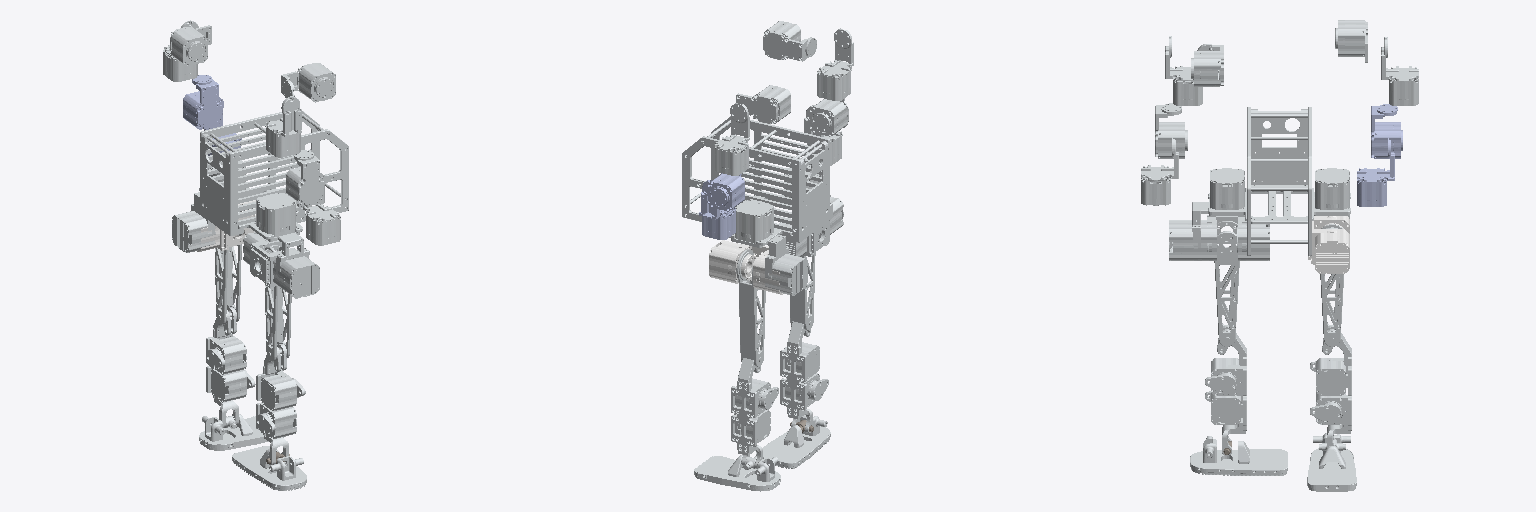
URDF robot description (hi_1_21_240815):
<?xml version="1.0" encoding="utf-8"?>
<!--
This URDF was automatically created by SolidWorks to URDF Exporter! Originally created by [author] ([email redacted])
Commit Version: 1.6.0-4-g7f85cfe  Build Version: 1.6.7995.38578
For more information, please see http://wiki.ros.org/sw_urdf_exporter
-->
<robot name="hi_1_21_240815">
	<link name="base_link">
		<inertial>
			<origin xyz="-9.6590197018076E-05 2.66945392179974E-09 0.017511404414247" rpy="0 0 0" />
			<mass value="0.67789918" />
			<inertia ixx="0.00370034" ixy="-0.00000112" ixz="-2.33467801644995E-08" 
									  iyy="0.00024244" iyz="-0.00001886" 
									  					izz="0.00274356" />
		</inertial>
		<visual>
			<origin xyz="0 0 0" rpy="0 0 0" />
			<geometry>
				<mesh filename="../meshes/base_link.STL" />
			</geometry>
			<material name="">
				<color rgba="0.898039215686275 0.917647058823529 0.929411764705882 1" />
			</material>
		</visual>
		<collision>
			<origin xyz="0 0 0" rpy="0 0 0" />
			<geometry>
				<mesh filename="../meshes/base_link.STL" />
			</geometry>
		</collision>
	</link>
  <!-- right leg -->
	<link name="r_hip_yaw_link">
		<inertial>
			<origin xyz="-0.05213112 0.00012202 -0.05273544" rpy="0 0 0" />
			<mass value="0.34953789" />
			<inertia ixx="0.00022813" ixy="4.5E-07" ixz="-5.884E-05" iyy="0.00025249" iyz="-5.3E-07" izz="0.00016829" />
		</inertial>
		<visual>
			<origin xyz="0 0 0" rpy="0 0 0" />
			<geometry>
				<mesh filename="../meshes/r_hip_yaw_link.STL" />
			</geometry>
			<material name="">
				<color rgba="0.898039215686275 0.917647058823529 0.929411764705882 1" />
			</material>
		</visual>
		<collision>
			<origin xyz="0 0 -0.01" rpy="0 0 0" />
			<geometry>
				<box size="0.01 0.01 0.01" />
			</geometry>
		</collision>
	</link>
	<joint name="r_hip_yaw_joint" type="revolute">
		<origin xyz="0 -0.0750000000000002 0" rpy="0 0 0" />
		<parent link="base_link" />
		<child link="r_hip_yaw_link" />
		<axis xyz="0 0 1" />
		<limit lower="-0.6" upper="0.6" effort="21" velocity="15" />
	</joint>
	<link name="r_hip_roll_link">
		<inertial>
			<origin xyz="-0.00214086 0.00022682 -0.00016674" rpy="0 0 0" />
			<mass value="0.67430799" />
			<inertia ixx="0.00098969" ixy="-4.2E-07" ixz="4.2E-07" iyy="0.00031647" iyz="-3.61E-06" izz="0.00101632" />
		</inertial>
		<visual>
			<origin xyz="0 0 0" rpy="0 0 0" />
			<geometry>
				<mesh filename="../meshes/r_hip_roll_link.STL" />
			</geometry>
			<material name="">
				<color rgba="0.898039215686275 0.917647058823529 0.929411764705882 1" />
			</material>
		</visual>
		<collision>
			<origin xyz="-0.03 0 0" rpy="0 0 0" />
			<geometry>
				<box size="0.01 0.01 0.01" />
			</geometry>
		</collision>
	</link>
	<joint name="r_hip_roll_joint" type="revolute">
		<origin xyz="0 0 -0.059" rpy="0 0 0" />
		<parent link="r_hip_yaw_link" />
		<child link="r_hip_roll_link" />
		<axis xyz="1 0 0" />
		<limit lower="-0.4" upper="0.22" effort="21" velocity="15" />
	</joint>
	<link name="r_thigh_link">
		<inertial>
			<origin xyz="0.00358069 -0.00097633 -0.07231086" rpy="0 0 0" />
			<mass value="0.10657336" />
			<inertia ixx="0.00026261" ixy="-3.7E-07" ixz="1.47E-06" iyy="0.00026313" iyz="6.94E-06" izz="2.409E-05" />
		</inertial>
		<visual>
			<origin xyz="0 0 0" rpy="0 0 0" />
			<geometry>
				<mesh filename="../meshes/r_thigh_link.STL" />
			</geometry>
			<material name="">
				<color rgba="0.898039215686275 0.917647058823529 0.929411764705882 1" />
			</material>
		</visual>
		<collision>
			<origin xyz="0 0 -0.075" rpy="0 -0.05009 0" />
			<geometry>
				<box size="0.02 0.02 0.12" />
			</geometry>
		</collision>
	</link>
	<joint name="r_thigh_joint" type="revolute">
		<origin xyz="0 0 0" rpy="0 0 0" />
		<parent link="r_hip_roll_link" />
		<child link="r_thigh_link" />
		<axis xyz="0 1 0" />
		<limit lower="-2.25" upper="0.4" effort="21" velocity="15" />
	</joint>
	<link name="r_calf_link">
		<inertial>
			<origin xyz="0.00199394 0 -0.08688477" rpy="0 0 0" />
			<mass value="0.53090962" />
			<inertia ixx="0.00070182" ixy="1E-08" ixz="-8.98E-06" iyy="0.00072293" iyz="4.927E-05" izz="0.00018922" />
		</inertial>
		<visual>
			<origin xyz="0 0 0" rpy="0 0 0" />
			<geometry>
				<mesh filename="../meshes/r_calf_link.STL" />
			</geometry>
			<material name="">
				<color rgba="0.898039215686275 0.917647058823529 0.929411764705882 1" />
			</material>
		</visual>
		<collision>
			<origin xyz="0 0 -0.075" rpy="0 0 0" />
			<geometry>
				<box size="0.03 0.035 0.12" />
			</geometry>
		</collision>
	</link>
	<joint name="r_calf_joint" type="revolute">
		<origin xyz="0 0 -0.15" rpy="0 0 0" />
		<parent link="r_thigh_link" />
		<child link="r_calf_link" />
		<axis xyz="0 1 0" />
		<limit lower="0.0" upper="2.37" effort="21" velocity="15" />
	</joint>
	<link name="r_ankle_pitch_link">
		<inertial>
			<origin xyz="0 0 0" rpy="0 0 0" />
			<mass value="0.01158437" />
			<inertia ixx="4.5E-07" ixy="0" ixz="0" iyy="1.12E-06" iyz="0" izz="1.21E-06" />
		</inertial>
		<visual>
			<origin xyz="0 0 0" rpy="0 0 0" />
			<geometry>
				<mesh filename="../meshes/r_ankle_pitch_link.STL" />
			</geometry>
			<material name="">
				<color rgba="0.650980392156863 0.619607843137255 0.588235294117647 1" />
			</material>
		</visual>
		<collision>
			<origin xyz="0 0 0" rpy="0 0 0" />
			<geometry>
				<mesh filename="../meshes/r_ankle_pitch_link.STL" />
			</geometry>
		</collision>
	</link>
	<joint name="r_ankle_pitch_joint" type="revolute">
		<origin xyz="0 0 -0.175449999999999" rpy="0 0 0" />
		<parent link="r_calf_link" />
		<child link="r_ankle_pitch_link" />
		<axis xyz="0 1 0" />
		<limit lower="-0.83" upper="0.59" effort="21" velocity="15" />
	</joint>
	<link name="r_ankle_roll_link">
		<inertial>
			<origin xyz="0.01709698 0 -0.0216953" rpy="0 0 0" />
			<mass value="0.25881222" />
			<inertia ixx="9.927E-05" ixy="0" ixz="1.946E-05" iyy="0.00039001" iyz="0" izz="0.00045665" />
		</inertial>
		<visual>
			<origin xyz="0 0 0" rpy="0 0 0" />
			<geometry>
				<mesh filename="../meshes/r_ankle_roll_link.STL" />
			</geometry>
			<material name="">
				<color rgba="0.898039215686275 0.917647058823529 0.929411764705882 1" />
			</material>
		</visual>
		<collision>
			<origin xyz="0 0 0" rpy="0 0 0" />
			<geometry>
				<mesh filename="../meshes/r_ankle_roll_link.STL" />
			</geometry>
		</collision>
	</link>
	<joint name="r_ankle_roll_joint" type="revolute">
		<origin xyz="0 0 0" rpy="0 0 0" />
		<parent link="r_ankle_pitch_link" />
		<child link="r_ankle_roll_link" />
		<axis xyz="1 0 0" />
		<limit lower="-0.83" upper="0.59" effort="21" velocity="15" />
	</joint>
  <!-- left leg -->
	<link name="l_hip_yaw_link">
		<inertial>
			<origin xyz="-0.05287777 -6.958E-05 -0.05288161" rpy="0 0 0" />
			<mass value="0.34953789" />
			<inertia ixx="0.00023311" ixy="-2.6E-07" ixz="-5.987E-05" iyy="0.00025057" iyz="3.9E-07" izz="0.00016652" />
		</inertial>
		<visual>
			<origin xyz="0 0 0" rpy="0 0 0" />
			<geometry>
				<mesh filename="../meshes/l_hip_yaw_link.STL" />
			</geometry>
			<material name="">
				<color rgba="0.898039215686275 0.917647058823529 0.929411764705882 1" />
			</material>
		</visual>
		<collision>
			<origin xyz="0 0 -0.01" rpy="0 0 0" />
			<geometry>
				<box size="0.01 0.01 0.01" />
			</geometry>
		</collision>
	</link>
	<joint name="l_hip_yaw_joint" type="revolute">
		<origin xyz="0 0.075 0" rpy="0 0 0" />
		<parent link="base_link" />
		<child link="l_hip_yaw_link" />
		<axis xyz="0 0 1" />
		<limit lower="-0.6" upper="0.6" effort="21" velocity="15" />
	</joint>
	<link name="l_hip_roll_link">
		<inertial>
			<origin xyz="-0.00198932 -0.00022682 -0.00016674" rpy="0 0 0" />
			<mass value="0.67430799" />
			<inertia ixx="0.00101903" ixy="3.9E-07" ixz="4E-07" iyy="0.00032559" iyz="2.13E-06" izz="0.00104452" />
		</inertial>
		<visual>
			<origin xyz="0 0 0" rpy="0 0 0" />
			<geometry>
				<mesh filename="../meshes/l_hip_roll_link.STL" />
			</geometry>
			<material name="">
				<color rgba="1 1 1 1" />
			</material>
		</visual>
		<collision>
			<origin xyz="-0.03 0 0" rpy="0 0 0" />
			<geometry>
				<box size="0.01 0.01 0.01" />
			</geometry>
		</collision>
	</link>
	<joint name="l_hip_roll_joint" type="revolute">
		<origin xyz="0 0 -0.0590000000000001" rpy="0 0 0" />
		<parent link="l_hip_yaw_link" />
		<child link="l_hip_roll_link" />
		<axis xyz="1 0 0" />
		<limit lower="-0.22" upper="0.4" effort="21" velocity="15" />
	</joint>
	<link name="l_thigh_link">
		<inertial>
			<origin xyz="0.00358069 -0.00097633 -0.07231086" rpy="0 0 0" />
			<mass value="0.10930341" />
			<inertia ixx="0.00027748" ixy="2.5E-07" ixz="2.16E-06" iyy="0.00027816" iyz="-4.53E-06" izz="2.508E-05" />
		</inertial>
		<visual>
			<origin xyz="0 0 0" rpy="0 0 0" />
			<geometry>
				<mesh filename="../meshes/l_thigh_link.STL" />
			</geometry>
			<material name="">
				<color rgba="0.898039215686275 0.917647058823529 0.929411764705882 1" />
			</material>
		</visual>
		<collision>
			<origin xyz="0 0 -0.075" rpy="0 -0.05009 0" />
			<geometry>
				<box size="0.02 0.02 0.12" />
			</geometry>
		</collision>
	</link>
	<joint name="l_thigh_joint" type="revolute">
		<origin xyz="0 0 0" rpy="0 0 0" />
		<parent link="l_hip_roll_link" />
		<child link="l_thigh_link" />
		<axis xyz="0 1 0" />
		<limit lower="-2.25" upper="0.4" effort="21" velocity="15" />
	</joint>
	<link name="l_calf_link">
		<inertial>
			<origin xyz="0.00176073 0 -0.08688482" rpy="0 0 0" />
			<mass value="0.5309096" />
			<inertia ixx="0.00066601" ixy="-1E-08" ixz="-9.12E-06" iyy="0.00068609" iyz="-4.268E-05" izz="0.00015353" />
		</inertial>
		<visual>
			<origin xyz="0 0 0" rpy="0 0 0" />
			<geometry>
				<mesh filename="../meshes/l_calf_link.STL" />
			</geometry>
			<material name="">
				<color rgba="0.898039215686275 0.917647058823529 0.929411764705882 1" />
			</material>
		</visual>
		<collision>
			<origin xyz="0 0 -0.075" rpy="0 0 0" />
			<geometry>
				<box size="0.03 0.035 0.12" />
			</geometry>
		</collision>
	</link>
	<joint name="l_calf_joint" type="revolute">
		<origin xyz="0 0 -0.15" rpy="0 0 0" />
		<parent link="l_thigh_link" />
		<child link="l_calf_link" />
		<axis xyz="0 1 0" />
		<limit lower="0.0" upper="2.37" effort="21" velocity="15" />
	</joint>
	<link name="l_ankle_pitch_link">
		<inertial>
			<origin xyz="0 0 0" rpy="0 0 0" />
			<mass value="0.01158437" />
			<inertia ixx="4.5E-07" ixy="0" ixz="0" iyy="1.12E-06" iyz="0" izz="1.21E-06" />
		</inertial>
		<visual>
			<origin xyz="0 0 0" rpy="0 0 0" />
			<geometry>
				<mesh filename="../meshes/l_ankle_pitch_link.STL" />
			</geometry>
			<material name="">
				<color rgba="0.898039215686275 0.917647058823529 0.929411764705882 1" />
			</material>
		</visual>
		<collision>
			<origin xyz="0 0 0" rpy="0 0 0" />
			<geometry>
				<mesh filename="../meshes/l_ankle_pitch_link.STL" />
			</geometry>
		</collision>
	</link>
	<joint name="l_ankle_pitch_joint" type="revolute">
		<origin xyz="0 0 -0.17545" rpy="0 0 0" />
		<parent link="l_calf_link" />
		<child link="l_ankle_pitch_link" />
		<axis xyz="0 1 0" />
		<limit lower="-0.83" upper="0.59" effort="21" velocity="15" />
	</joint>
	<link name="l_ankle_roll_link">
		<inertial>
			<origin xyz="0.01709698 0 -0.0216953" rpy="0 0 0" />
			<mass value="0.25881222" />
			<inertia ixx="9.927E-05" ixy="0" ixz="1.946E-05" iyy="0.00039001" iyz="0" izz="0.00045665" />
		</inertial>
		<visual>
			<origin xyz="0 0 0" rpy="0 0 0" />
			<geometry>
				<mesh filename="../meshes/l_ankle_roll_link.STL" />
			</geometry>
			<material name="">
				<color rgba="0.898039215686275 0.917647058823529 0.929411764705882 1" />
			</material>
		</visual>
		<collision>
			<origin xyz="0 0 0" rpy="0 0 0" />
			<geometry>
				<mesh filename="../meshes/l_ankle_roll_link.STL" />
			</geometry>
		</collision>
	</link>
	<joint name="l_ankle_roll_joint" type="revolute">
		<origin xyz="0 0 0" rpy="0 0 0" />
		<parent link="l_ankle_pitch_link" />
		<child link="l_ankle_roll_link" />
		<axis xyz="1 0 0" />
		<limit lower="-0.83" upper="0.59" effort="21" velocity="15" />
	</joint>
  <!-- waist -->
	<link name="waist_yaw_link">
		<inertial>
			<origin xyz="0 1.562E-05 0.12043115" rpy="0 0 0" />
			<mass value="2.442" />
			<inertia ixx="0.00450468" ixy="6E-08" ixz="-9.585E-05" iyy="0.0038077" iyz="1.15E-06" izz="0.00218872" />
		</inertial>
		<visual>
			<origin xyz="0 0 0" rpy="0 0 0" />
			<geometry>
				<mesh filename="../meshes/waist_yaw_link.STL" />
			</geometry>
			<material name="">
				<color rgba="1 1 1 1" />
			</material>
		</visual>
		<collision>
			<origin xyz="0 0 0" rpy="0 0 0" />
			<geometry>
				<mesh filename="../meshes/waist_yaw_link.STL" />
			</geometry>
		</collision>
	</link>
	<joint name="waist_yaw_joint" type="fixed">
		<origin xyz="0 0 0.0160999999999999" rpy="0 0 0" />
		<parent link="base_link" />
		<child link="waist_yaw_link" />
		<axis xyz="0 0 -1" />
		<limit lower="-3.14" upper="3.14" effort="21" velocity="21" />
	</joint>
  <!-- right arm -->
	<link name="r_shoulder_pitch_link">
		<inertial>
			<origin xyz="-0.00143519 -0.04726596 -0.00014687" rpy="0 0 0" />
			<mass value="0.24141449" />
			<inertia ixx="0.00011586" ixy="-9.63E-06" ixz="1.1E-07" iyy="9.039E-05" iyz="4.3E-07" izz="0.00012631" />
		</inertial>
		<visual>
			<origin xyz="0 0 0" rpy="0 0 0" />
			<geometry>
				<mesh filename="../meshes/r_shoulder_pitch_link.STL" />
			</geometry>
			<material name="">
				<color rgba="0.898039215686275 0.917647058823529 0.929411764705882 1" />
			</material>
		</visual>
		<collision>
			<origin xyz="0 0 0" rpy="0 0 0" />
			<geometry>
				<mesh filename="../meshes/r_shoulder_pitch_link.STL" />
			</geometry>
		</collision>
	</link>
	<joint name="r_shoulder_pitch_joint" type="fixed">
		<origin xyz="0 -0.103 0.219" rpy="0 0 0" />
		<parent link="waist_yaw_link" />
		<child link="r_shoulder_pitch_link" />
		<axis xyz="0 -1 0" />
		<limit lower="-3.14" upper="3.14" effort="21" velocity="21" />
	</joint>
	<link name="r_shoulder_roll_link">
		<inertial>
			<origin xyz="0.02053236 0.00011391 -0.06124017" rpy="0 0 0" />
			<mass value="0.239293" />
			<inertia ixx="0.00014377" ixy="3.1E-07" ixz="3.136E-05" iyy="0.00015993" iyz="-2E-06" izz="9.482E-05" />
		</inertial>
		<visual>
			<origin xyz="0 0 0" rpy="0 0 0" />
			<geometry>
				<mesh filename="../meshes/r_shoulder_roll_link.STL" />
			</geometry>
			<material name="">
				<color rgba="0.898039215686275 0.917647058823529 0.929411764705882 1" />
			</material>
		</visual>
		<collision>
			<origin xyz="0 0 0" rpy="0 0 0" />
			<geometry>
				<mesh filename="../meshes/r_shoulder_roll_link.STL" />
			</geometry>
		</collision>
	</link>
	<joint name="r_shoulder_roll_joint" type="fixed">
		<origin xyz="-0.0234000000000001 -0.0509999999999994 0" rpy="0 0 0" />
		<parent link="r_shoulder_pitch_link" />
		<child link="r_shoulder_roll_link" />
		<axis xyz="-1 0 0" />
		<limit lower="-3.14" upper="3.14" effort="21" velocity="21" />
	</joint>
	<link name="r_elbow_yaw_link">
		<inertial>
			<origin xyz="0.00068959 7.829E-05 -0.04659112" rpy="0 0 0" />
			<mass value="0.24141449" />
			<inertia ixx="0.00011397" ixy="7.5E-07" ixz="8.06E-06" iyy="0.00012313" iyz="-5.1E-07" izz="8.924E-05" />
		</inertial>
		<visual>
			<origin xyz="0 0 0" rpy="0 0 0" />
			<geometry>
				<mesh filename="../meshes/r_elbow_yaw_link.STL" />
			</geometry>
			<material name="">
				<color rgba="0.898039215686275 0.917647058823529 0.929411764705882 1" />
			</material>
		</visual>
		<collision>
			<origin xyz="0 0 0" rpy="0 0 0" />
			<geometry>
				<mesh filename="../meshes/r_elbow_yaw_link.STL" />
			</geometry>
		</collision>
	</link>
	<joint name="r_elbow_yaw_joint" type="fixed">
		<origin xyz="0.0234000000000034 0 -0.0867000000000017" rpy="0 0 0" />
		<parent link="r_shoulder_roll_link" />
		<child link="r_elbow_yaw_link" />
		<axis xyz="0 0 1" />
		<limit lower="-3.14" upper="3.14" effort="21" velocity="21" />
	</joint>
	<link name="r_elbow_roll_link">
		<inertial>
			<origin xyz="-0.01933601 0.00281481 -0.06124017" rpy="0 0 0" />
			<mass value="0.239293" />
			<inertia ixx="0.00014379" ixy="3.1E-07" ixz="-3.134E-05" iyy="0.00015951" iyz="1.35E-06" izz="9.441E-05" />
		</inertial>
		<visual>
			<origin xyz="0 0 0" rpy="0 0 0" />
			<geometry>
				<mesh filename="../meshes/r_elbow_roll_link.STL" />
			</geometry>
			<material name="">
				<color rgba="0.898039215686275 0.917647058823529 0.929411764705882 1" />
			</material>
		</visual>
		<collision>
			<origin xyz="0 0 0" rpy="0 0 0" />
			<geometry>
				<mesh filename="../meshes/r_elbow_roll_link.STL" />
			</geometry>
		</collision>
	</link>
	<joint name="r_elbow_roll_joint" type="fixed">
		<origin xyz="0.0224999999999939 0 -0.0501000000000089" rpy="0 0 0" />
		<parent link="r_elbow_yaw_link" />
		<child link="r_elbow_roll_link" />
		<axis xyz="1 0 0" />
		<limit lower="-3.14" upper="3.14" effort="21" velocity="21" />
	</joint>
  <!-- left arm -->
	<link name="l_shoulder_pitch_link">
		<inertial>
			<origin xyz="-0.00177898 0.04994717 -0.0001557" rpy="0 0 0" />
			<mass value="0.22773061" />
			<inertia ixx="8.593E-05" ixy="6.08E-06" ixz="1.2E-07" iyy="8.793E-05" iyz="-5.3E-07" izz="9.585E-05" />
		</inertial>
		<visual>
			<origin xyz="0 0 0" rpy="0 0 0" />
			<geometry>
				<mesh filename="../meshes/l_shoulder_pitch_link.STL" />
			</geometry>
			<material name="">
				<color rgba="0.898039215686275 0.917647058823529 0.929411764705882 1" />
			</material>
		</visual>
		<collision>
			<origin xyz="0 0 0" rpy="0 0 0" />
			<geometry>
				<mesh filename="../meshes/l_shoulder_pitch_link.STL" />
			</geometry>
		</collision>
	</link>
	<joint name="l_shoulder_pitch_joint" type="fixed">
		<origin xyz="0 0.103 0.219" rpy="0 0 0" />
		<parent link="waist_yaw_link" />
		<child link="l_shoulder_pitch_link" />
		<axis xyz="0 1 0" />
		<limit lower="-3.14" upper="3.14" effort="21" velocity="21" />
	</joint>
	<link name="l_shoulder_roll_link">
		<inertial>
			<origin xyz="0.02053236 -0.00011391 -0.06124018" rpy="0 0 0" />
			<mass value="0.23929294" />
			<inertia ixx="0.00014377" ixy="-3.1E-07" ixz="3.136E-05" iyy="0.00015993" iyz="2E-06" izz="9.482E-05" />
		</inertial>
		<visual>
			<origin xyz="0 0 0" rpy="0 0 0" />
			<geometry>
				<mesh filename="../meshes/l_shoulder_roll_link.STL" />
			</geometry>
			<material name="">
				<color rgba="0.898039215686275 0.917647058823529 0.929411764705882 1" />
			</material>
		</visual>
		<collision>
			<origin xyz="0 0 0" rpy="0 0 0" />
			<geometry>
				<mesh filename="../meshes/l_shoulder_roll_link.STL" />
			</geometry>
		</collision>
	</link>
	<joint name="l_shoulder_roll_joint" type="fixed">
		<origin xyz="-0.0233999999999998 0.0509999999999989 0" rpy="0 0 0" />
		<parent link="l_shoulder_pitch_link" />
		<child link="l_shoulder_roll_link" />
		<axis xyz="-1 0 0" />
		<limit lower="-3.14" upper="3.14" effort="21" velocity="21" />
	</joint>
	<link name="l_elbow_yaw_link">
		<inertial>
			<origin xyz="0.00087374 -3.261E-05 -0.0482023" rpy="0 0 0" />
			<mass value="0.23279871" />
			<inertia ixx="9.636E-05" ixy="-7E-07" ixz="6.22E-06" iyy="0.00010527" iyz="3E-08" izz="8.775E-05" />
		</inertial>
		<visual>
			<origin xyz="0 0 0" rpy="0 0 0" />
			<geometry>
				<mesh filename="../meshes/l_elbow_yaw_link.STL" />
			</geometry>
			<material name="">
				<color rgba="0.792156862745098 0.819607843137255 0.933333333333333 1" />
			</material>
		</visual>
		<collision>
			<origin xyz="0 0 0" rpy="0 0 0" />
			<geometry>
				<mesh filename="../meshes/l_elbow_yaw_link.STL" />
			</geometry>
		</collision>
	</link>
	<joint name="l_elbow_yaw_joint" type="fixed">
		<origin xyz="0.0234000000000008 0 -0.086699999999999" rpy="0 0 0" />
		<parent link="l_shoulder_roll_link" />
		<child link="l_elbow_yaw_link" />
		<axis xyz="0 0 -1" />
		<limit lower="-3.14" upper="3.14" effort="21" velocity="21" />
	</joint>
	<link name="l_elbow_roll_link">
		<inertial>
			<origin xyz="-0.01938616 -0.00275142 -0.0620045" rpy="0 0 0" />
			<mass value="0.22957426" />
			<inertia ixx="0.0001391" ixy="-3.3E-07" ixz="-3.111E-05" iyy="0.00015402" iyz="-1.62E-06" izz="9.087E-05" />
		</inertial>
		<visual>
			<origin xyz="0 0 0" rpy="0 0 0" />
			<geometry>
				<mesh filename="../meshes/l_elbow_roll_link.STL" />
			</geometry>
			<material name="">
				<color rgba="0.792156862745098 0.819607843137255 0.933333333333333 1" />
			</material>
		</visual>
		<collision>
			<origin xyz="0 0 0" rpy="0 0 0" />
			<geometry>
				<mesh filename="../meshes/l_elbow_roll_link.STL" />
			</geometry>
		</collision>
	</link>
	<joint name="l_elbow_roll_joint" type="fixed">
		<origin xyz="0.0225 0 -0.0501" rpy="0 0 0" />
		<parent link="l_elbow_yaw_link" />
		<child link="l_elbow_roll_link" />
		<axis xyz="1 0 0" />
		<limit lower="-3.14" upper="3.14" effort="21" velocity="21" />
	</joint>
</robot>

--- Render facts (derived) ---
The picture shows the robot from 3 angles, left to right: view 1: azimuth 30°, elevation 25°; view 2: azimuth 150°, elevation 25°; view 3: azimuth 270°, elevation 25°; orthographic projection.
Robot: hi_1_21_240815 — 22 links, 21 joints (12 revolute, 9 fixed); root link base_link; default pose: every joint at zero.
Links seen in each view (by area): view 1: base_link, r_calf_link, l_calf_link, r_ankle_roll_link, r_hip_yaw_link, r_shoulder_roll_link, l_thigh_link, l_elbow_yaw_link, l_ankle_roll_link, r_thigh_link, r_shoulder_pitch_link, r_elbow_yaw_link (+6 smaller); view 2: base_link, r_calf_link, l_calf_link, l_ankle_roll_link, l_hip_roll_link, l_thigh_link, r_ankle_roll_link, l_shoulder_roll_link, r_shoulder_roll_link, l_hip_yaw_link, r_shoulder_pitch_link, l_shoulder_pitch_link (+6 smaller); view 3: base_link, r_calf_link, l_calf_link, r_ankle_roll_link, r_hip_roll_link, l_ankle_roll_link, l_hip_roll_link, r_thigh_link, l_shoulder_roll_link, r_elbow_yaw_link, r_elbow_roll_link, l_elbow_yaw_link (+6 smaller).
Link boxes in pixels (box(x1,y1,x2,y2)): base_link: box(199, 111, 348, 241); r_calf_link: box(256, 344, 305, 464); l_calf_link: box(206, 307, 255, 427); r_ankle_roll_link: box(232, 446, 306, 490); r_hip_yaw_link: box(276, 233, 319, 298); r_shoulder_roll_link: box(265, 96, 301, 157); l_thigh_link: box(215, 212, 241, 324); l_elbow_yaw_link: box(183, 75, 222, 129); l_ankle_roll_link: box(199, 414, 285, 450); r_thigh_link: box(265, 246, 291, 361); r_shoulder_pitch_link: box(281, 63, 335, 102); r_elbow_yaw_link: box(286, 150, 323, 204); base_link: box(682, 116, 830, 247); r_calf_link: box(780, 315, 828, 432); l_calf_link: box(731, 358, 778, 468); l_ankle_roll_link: box(694, 455, 780, 491); l_hip_roll_link: box(709, 240, 782, 294); l_thigh_link: box(736, 249, 765, 366); r_ankle_roll_link: box(756, 415, 830, 468); l_shoulder_roll_link: box(714, 103, 749, 175); r_shoulder_roll_link: box(817, 28, 853, 100); l_hip_yaw_link: box(765, 235, 807, 295); r_shoulder_pitch_link: box(763, 21, 816, 61); l_shoulder_pitch_link: box(736, 85, 790, 123); base_link: box(1208, 107, 1350, 255); r_calf_link: box(1205, 326, 1246, 455); l_calf_link: box(1310, 326, 1351, 447); r_ankle_roll_link: box(1190, 436, 1287, 475); r_hip_roll_link: box(1184, 215, 1269, 260); l_ankle_roll_link: box(1307, 433, 1356, 491); l_hip_roll_link: box(1308, 216, 1349, 273); r_thigh_link: box(1214, 221, 1239, 346); l_shoulder_roll_link: box(1381, 37, 1418, 105); r_elbow_yaw_link: box(1155, 103, 1187, 158); r_elbow_roll_link: box(1141, 137, 1178, 205); l_elbow_yaw_link: box(1371, 104, 1402, 158).
Bounding box of the posed robot: 0.2219 × 0.3974 × 0.6718 m (x, y, z).
Meshes: 22 distinct files referenced, 21 mesh visuals loaded (21 binary STL); not drawn: 1 (reference not matched to a file when rendering).
